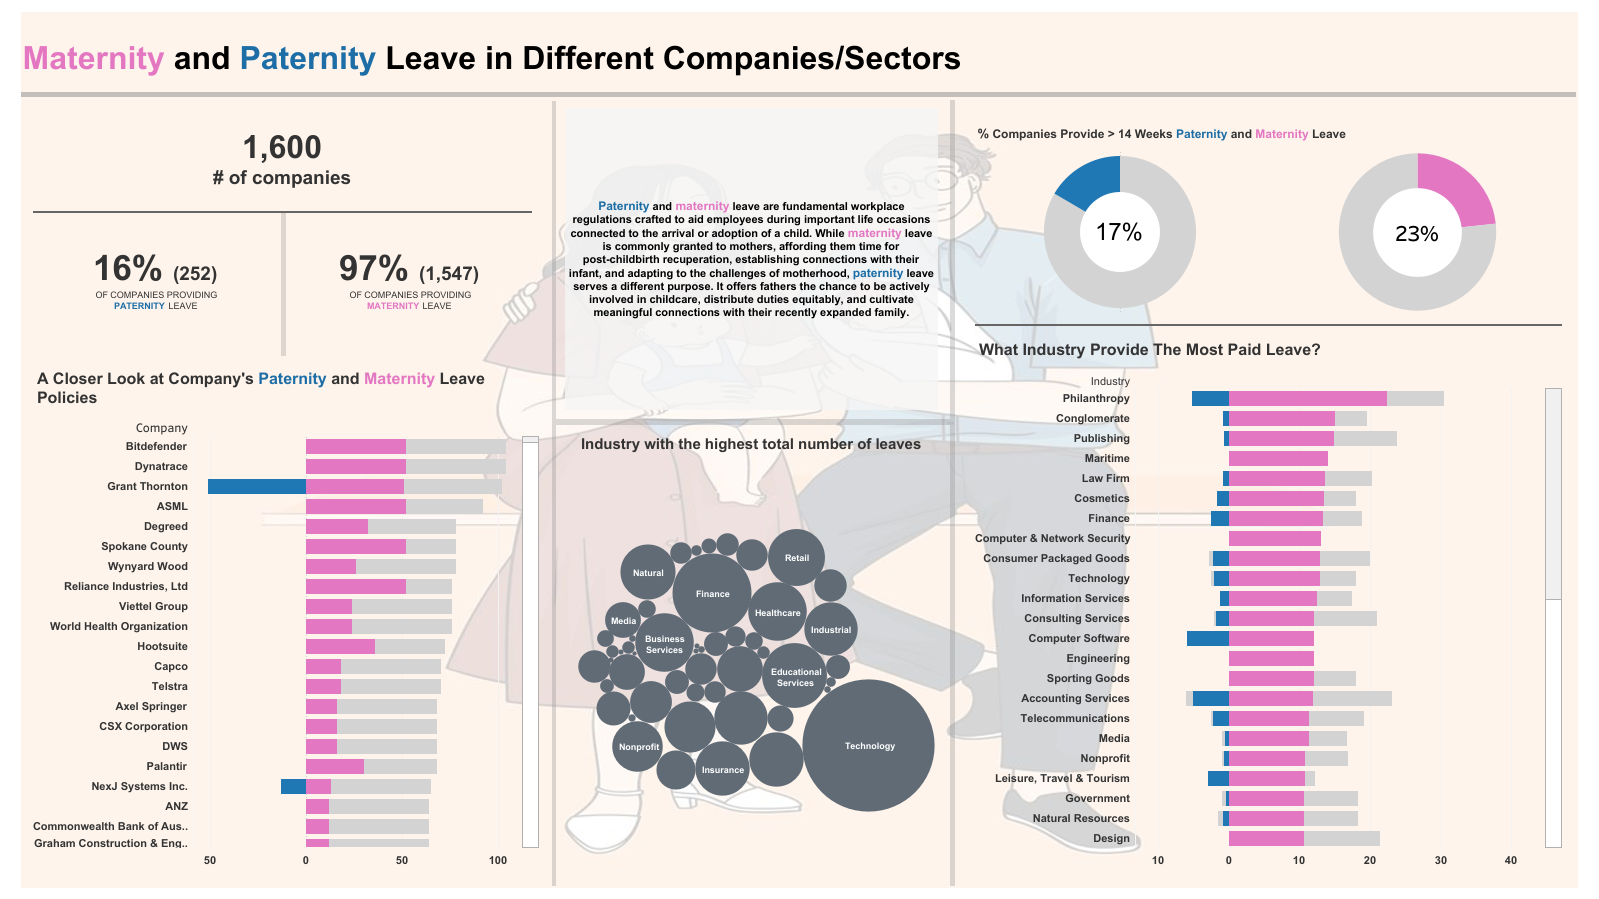

The page's visual inventory and layout, read from the dashboard file:
{"tool":"tableau","page":{"name":"Paternity Vs Maternity","canvas":[1600,900],"ordinal":0},"visuals":[{"type":"image","param":"Image/Presentation1.jpg","box":[8,8,1584,884]},{"type":"text","box":[20,10,1558,95]},{"type":"blank","box":[21,92,1555,5]},{"type":"blank","box":[950,100,5,786]},{"type":"blank","box":[552,101,4,785]},{"type":"text","box":[565,108,373,302]},{"type":"worksheet","title":"Total Company","mark":"Automatic","box":[29,111,507,96]},{"type":"text","box":[971,118,595,30]},{"type":"worksheet","title":"% 14+ pat leave","mark":"Pie","cols":["Calculation_1353331750495248431","Calculation_1353331750495289393"],"box":[971,148,297.5,172]},{"type":"worksheet","title":"% Giving 14+ week Maternity","mark":"Pie","cols":["Calculation_1353331750120345618","Calculation_1353331750120378388"],"box":[1268.5,148,297.5,172]},{"type":"blank","box":[29,207,507,10]},{"type":"worksheet","title":"% with paternity leave","mark":"Automatic","box":[29,217,228,124]},{"type":"blank","box":[257,217,10,124]},{"type":"worksheet","title":"% with maternity leave","mark":"Automatic","box":[267,217,228,124]},{"type":"blank","box":[971,320,595,10]},{"type":"worksheet","title":"mat leave by industry","mark":"Automatic","rows":["Industry - Split 1"],"box":[971,330,595,551]},{"type":"worksheet","title":"mat pat by com","mark":"Automatic","rows":["Company"],"box":[29,359,514,522]},{"type":"blank","box":[556,419,394,6]},{"type":"worksheet","title":"total leave by industry","mark":"Circle","box":[573,425,366,457]}]}

Visuals, with their boxes in screenshot pixels (x1, y1, x2, y2), scaled from the page's 1600x900 canvas onto the 1599x899 screenshot:
image: select_region(8, 8, 1591, 891)
text: select_region(20, 10, 1577, 105)
blank: select_region(21, 92, 1575, 97)
blank: select_region(949, 100, 954, 885)
blank: select_region(552, 101, 556, 885)
text: select_region(565, 108, 937, 410)
"Total Company" worksheet: select_region(29, 111, 536, 207)
text: select_region(970, 118, 1565, 148)
"% 14+ pat leave" worksheet (Pie marks): select_region(970, 148, 1268, 320)
"% Giving 14+ week Maternity" worksheet (Pie marks): select_region(1268, 148, 1565, 320)
blank: select_region(29, 207, 536, 217)
"% with paternity leave" worksheet: select_region(29, 217, 257, 341)
blank: select_region(257, 217, 267, 341)
"% with maternity leave" worksheet: select_region(267, 217, 495, 341)
blank: select_region(970, 320, 1565, 330)
"mat leave by industry" worksheet: select_region(970, 330, 1565, 880)
"mat pat by com" worksheet: select_region(29, 359, 543, 880)
blank: select_region(556, 419, 949, 425)
"total leave by industry" worksheet (Circle marks): select_region(573, 425, 938, 881)
